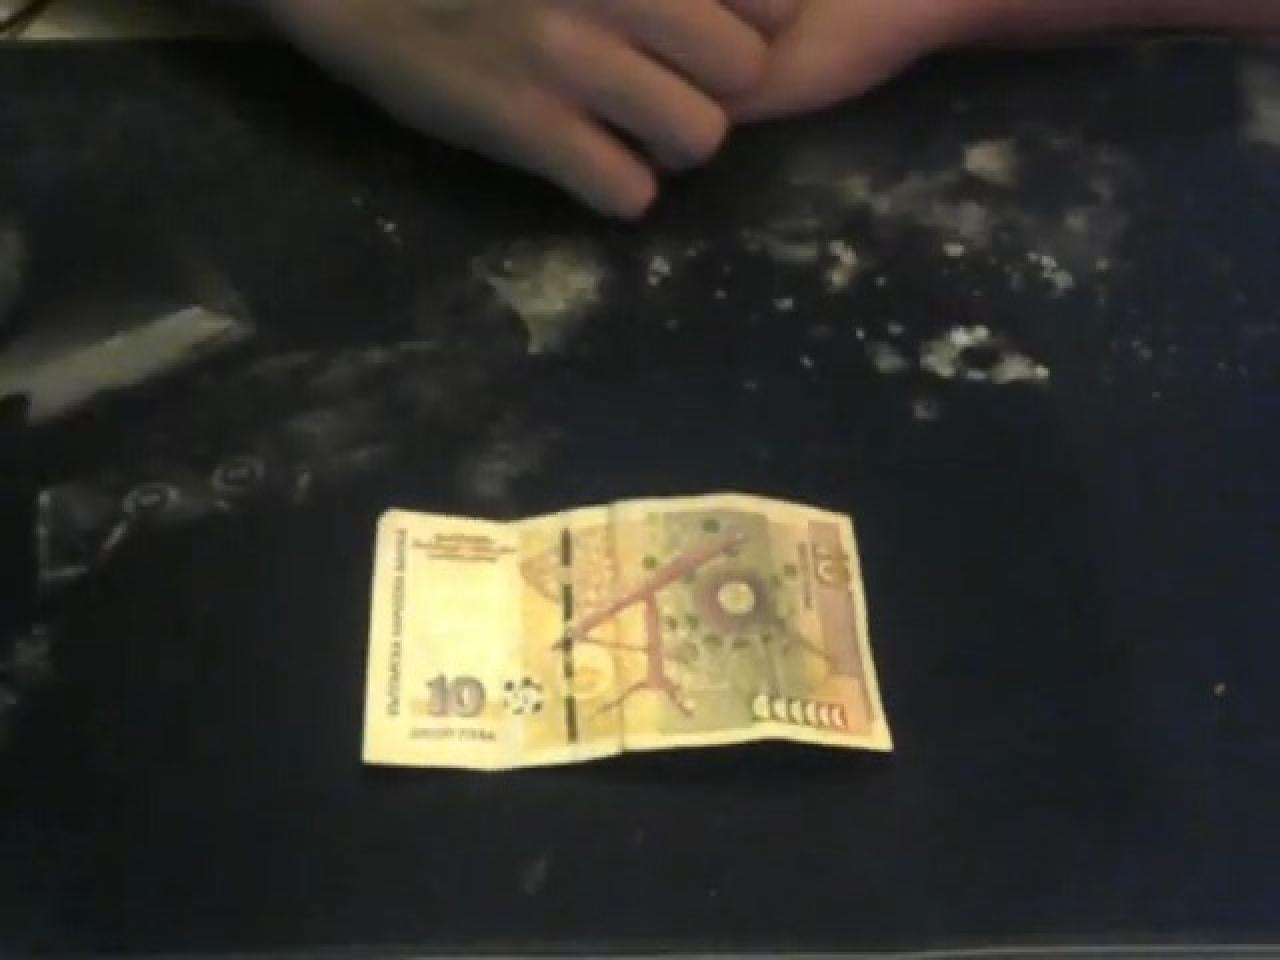10leva: (360, 493, 894, 778)
